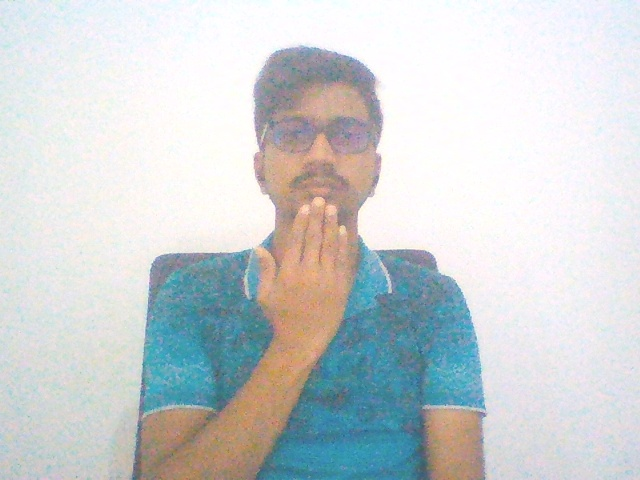mango: (237, 190, 388, 375)
